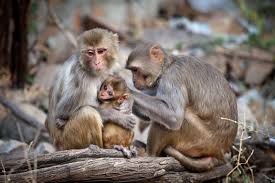monkey: (123, 33, 244, 169), (68, 37, 115, 152), (86, 70, 132, 136)
